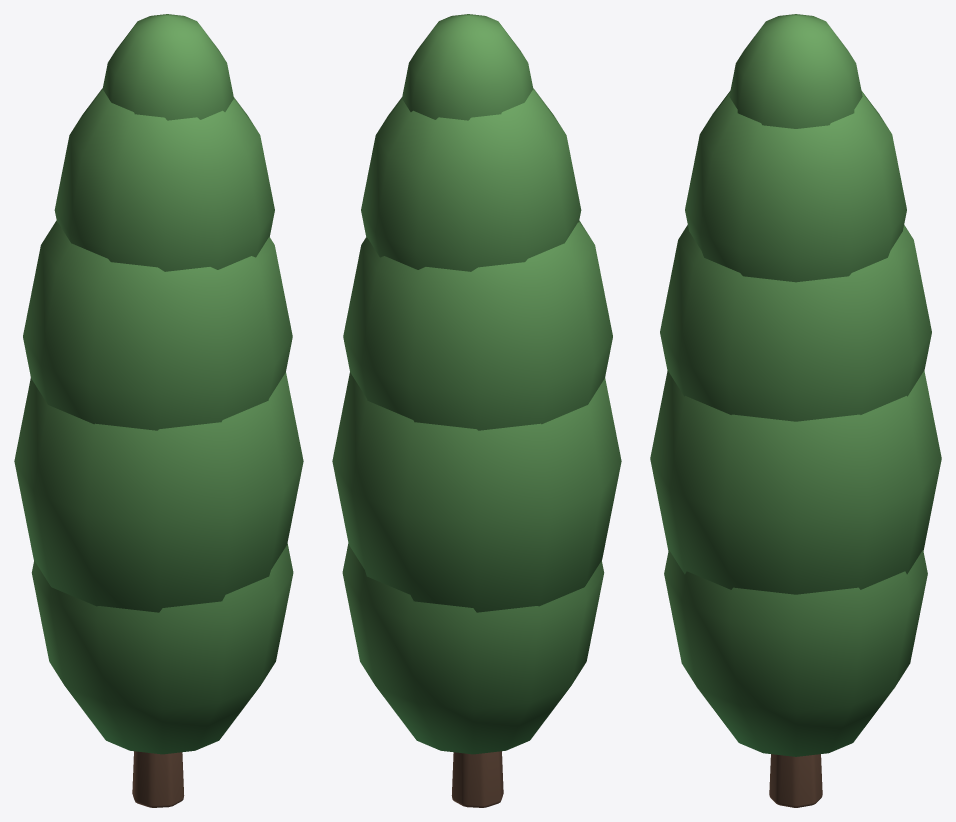
File: prop_tree_d.glb
3 views of the same model, side by side, from view 1: azimuth 30°, elevation 25°; view 2: azimuth 150°, elevation 25°; view 3: azimuth 270°, elevation 25° (orthographic).
Parts seen in each view (by area): view 1: prop_tree_d; view 2: prop_tree_d; view 3: prop_tree_d.
Part boxes in pixels (x1,y1,x2,y2): prop_tree_d: (14,14,303,807); prop_tree_d: (332,14,621,807); prop_tree_d: (650,14,941,807).
Bounding box in the file's own units: 2.1 × 6.25 × 2.1.
